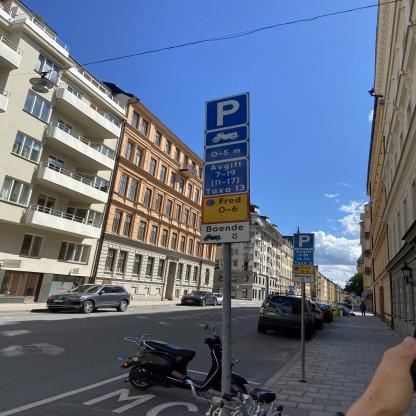P-skylt: (203, 92, 249, 132)
